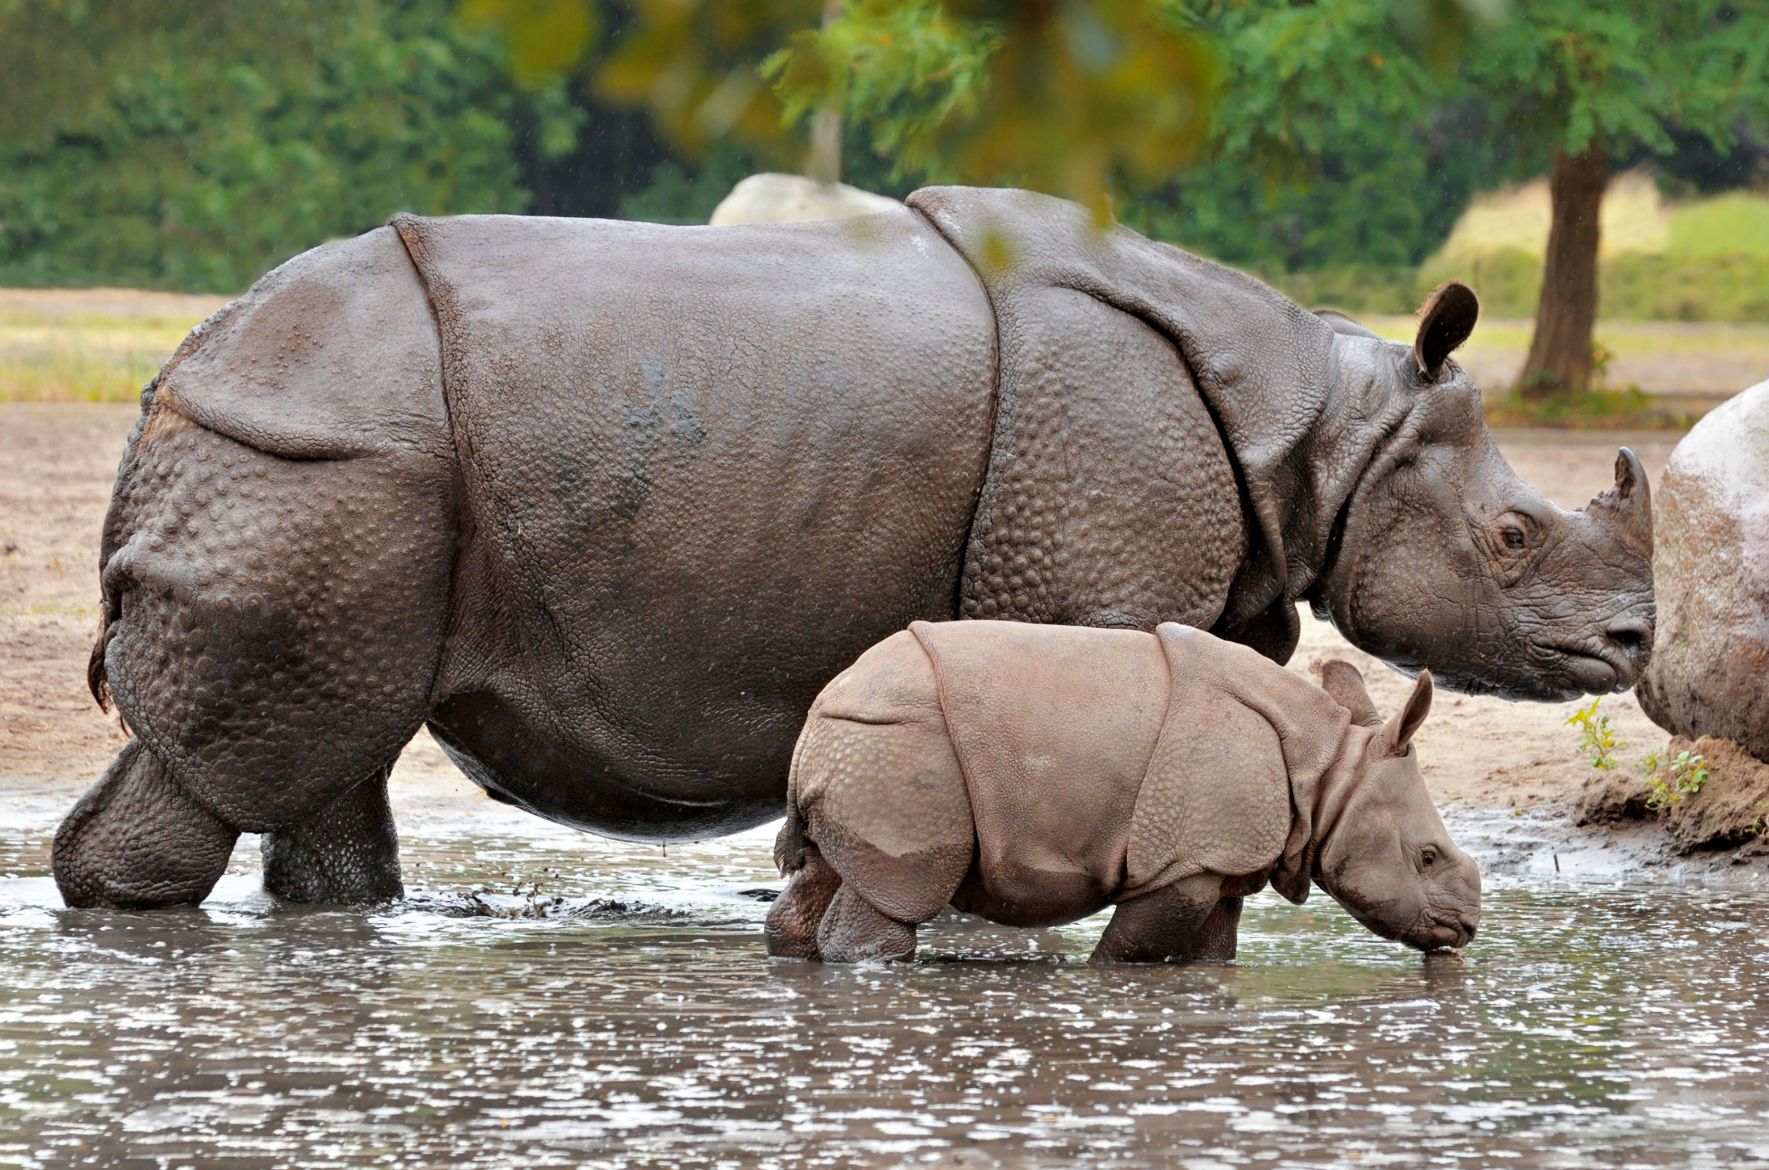rhinoceros: (51, 176, 1682, 925), (764, 612, 1487, 1009)
